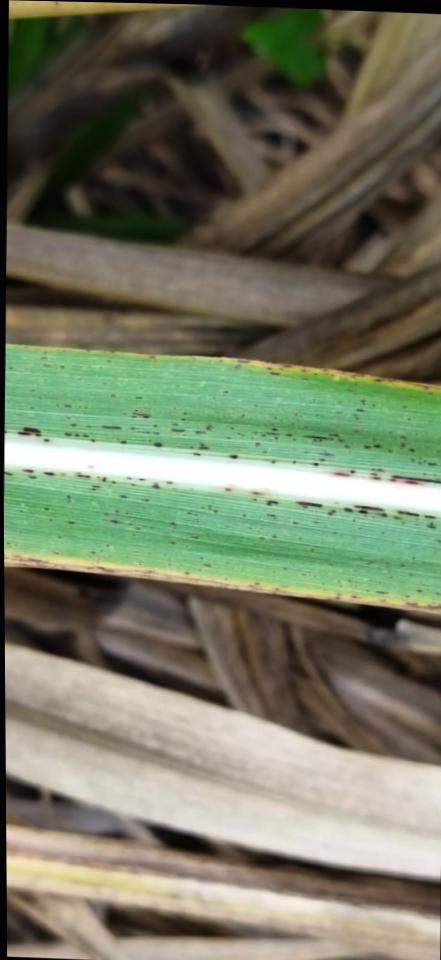Rust: (4, 533, 441, 615), (214, 357, 438, 395), (99, 492, 220, 548), (237, 509, 349, 554), (291, 497, 441, 530), (4, 466, 176, 492), (221, 423, 310, 466), (249, 425, 352, 449), (330, 464, 441, 485), (330, 396, 381, 422), (127, 410, 189, 431), (362, 431, 417, 453), (270, 411, 309, 431), (5, 425, 50, 442), (221, 485, 266, 502), (39, 351, 71, 371), (311, 450, 339, 467), (404, 455, 439, 468), (62, 430, 97, 443), (190, 421, 216, 436), (188, 441, 209, 459), (128, 407, 151, 420), (96, 423, 123, 432), (132, 429, 163, 436), (68, 421, 93, 429), (49, 401, 74, 409), (264, 498, 279, 511), (64, 492, 75, 505), (167, 427, 187, 433), (225, 453, 237, 460), (153, 441, 163, 448), (119, 437, 127, 445), (42, 505, 50, 512), (67, 520, 77, 525)
